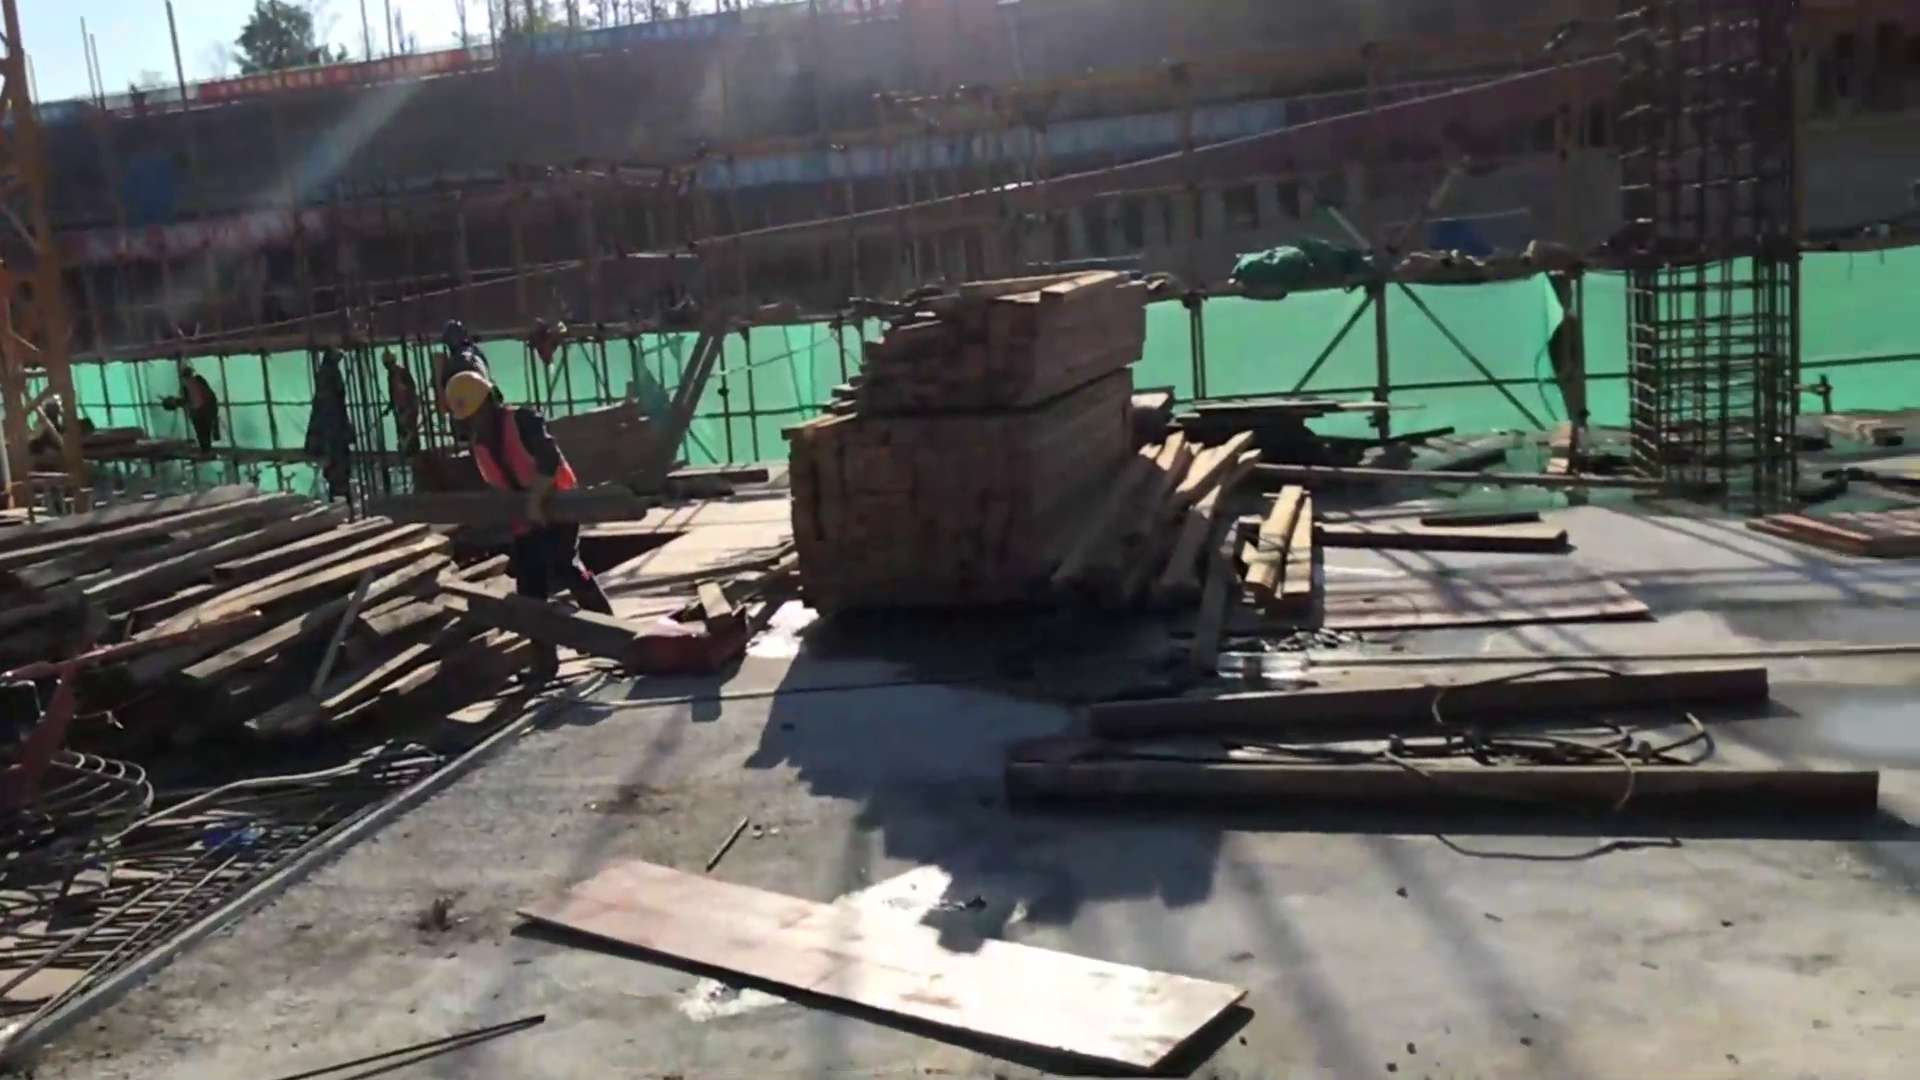helmet: (447, 372, 489, 410)
person: (440, 372, 598, 646)
vest: (468, 428, 570, 531)
wood: (777, 287, 1332, 679), (59, 506, 438, 731)
